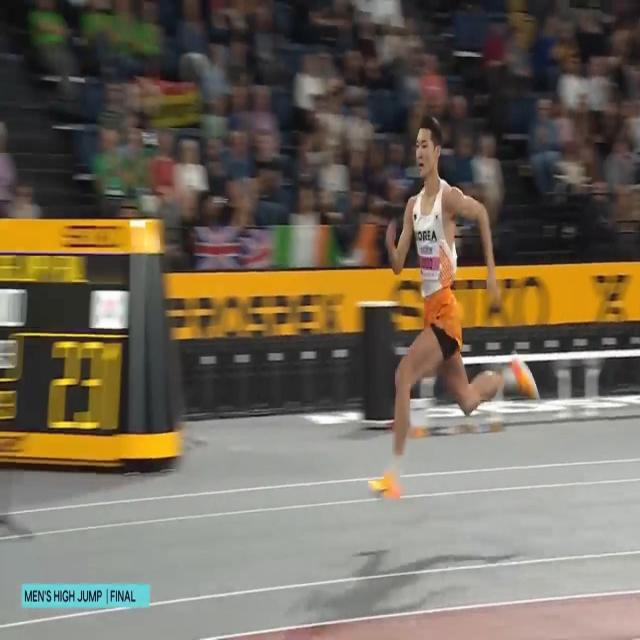run: (366, 108, 542, 506)
